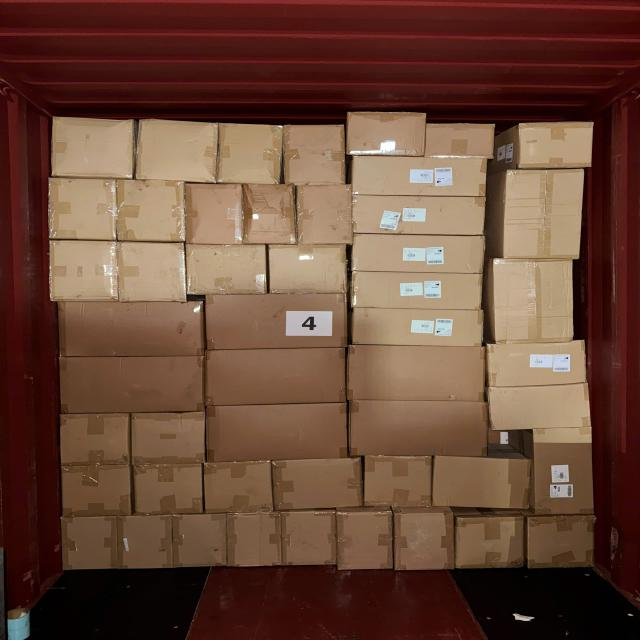Carton: (488, 166, 588, 260), (207, 402, 349, 466), (59, 352, 208, 412), (206, 294, 352, 354), (61, 301, 208, 360), (205, 344, 348, 404), (348, 342, 489, 402), (352, 397, 488, 459), (486, 257, 575, 342), (352, 160, 492, 200), (433, 456, 531, 513), (354, 236, 488, 277), (353, 197, 489, 236), (50, 117, 134, 180), (139, 118, 220, 182), (353, 272, 487, 310), (352, 312, 488, 349), (275, 458, 366, 513), (531, 438, 593, 518), (491, 385, 594, 433), (485, 342, 587, 389), (115, 180, 184, 244), (116, 243, 186, 306), (49, 242, 117, 305), (48, 178, 114, 242), (184, 246, 268, 296), (454, 514, 524, 572), (268, 246, 349, 296), (220, 120, 284, 183), (395, 511, 457, 574), (528, 517, 599, 572), (131, 412, 206, 464), (364, 456, 434, 511), (286, 122, 348, 184), (135, 463, 206, 517), (518, 120, 594, 170), (63, 412, 133, 466), (184, 185, 244, 248), (297, 183, 354, 247), (203, 463, 273, 515), (335, 511, 393, 573), (349, 112, 427, 158), (64, 467, 134, 518), (119, 516, 175, 574), (229, 512, 285, 570), (246, 185, 298, 247), (59, 518, 116, 574), (172, 515, 228, 571), (281, 512, 336, 568), (428, 122, 497, 160)
